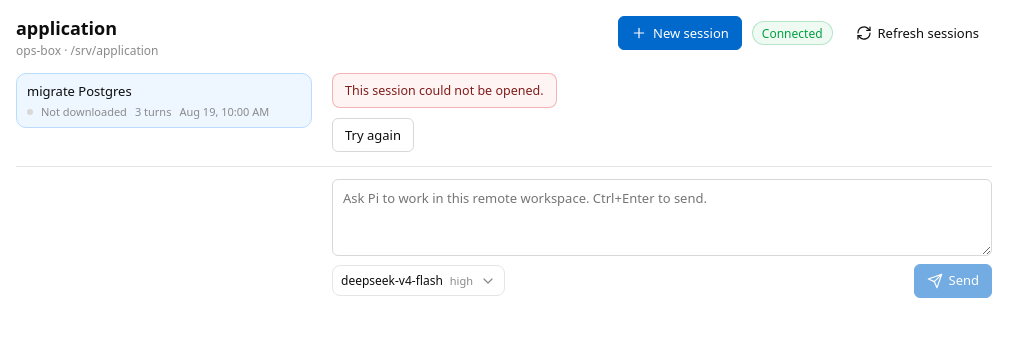
Test: remote session reader › an open that fails reaches a terminal state that can be retried
Check: the text "This session could not be opened." is shown, box [332, 73, 556, 108]
Click the button "Try again".
click(373, 135)  # box [332, 118, 414, 152]
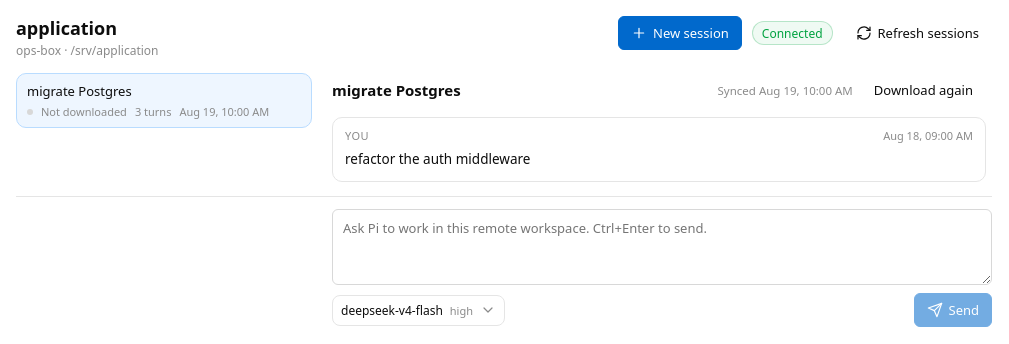
Check: the text "refactor the auth middleware" is shown, box [345, 150, 530, 168]
